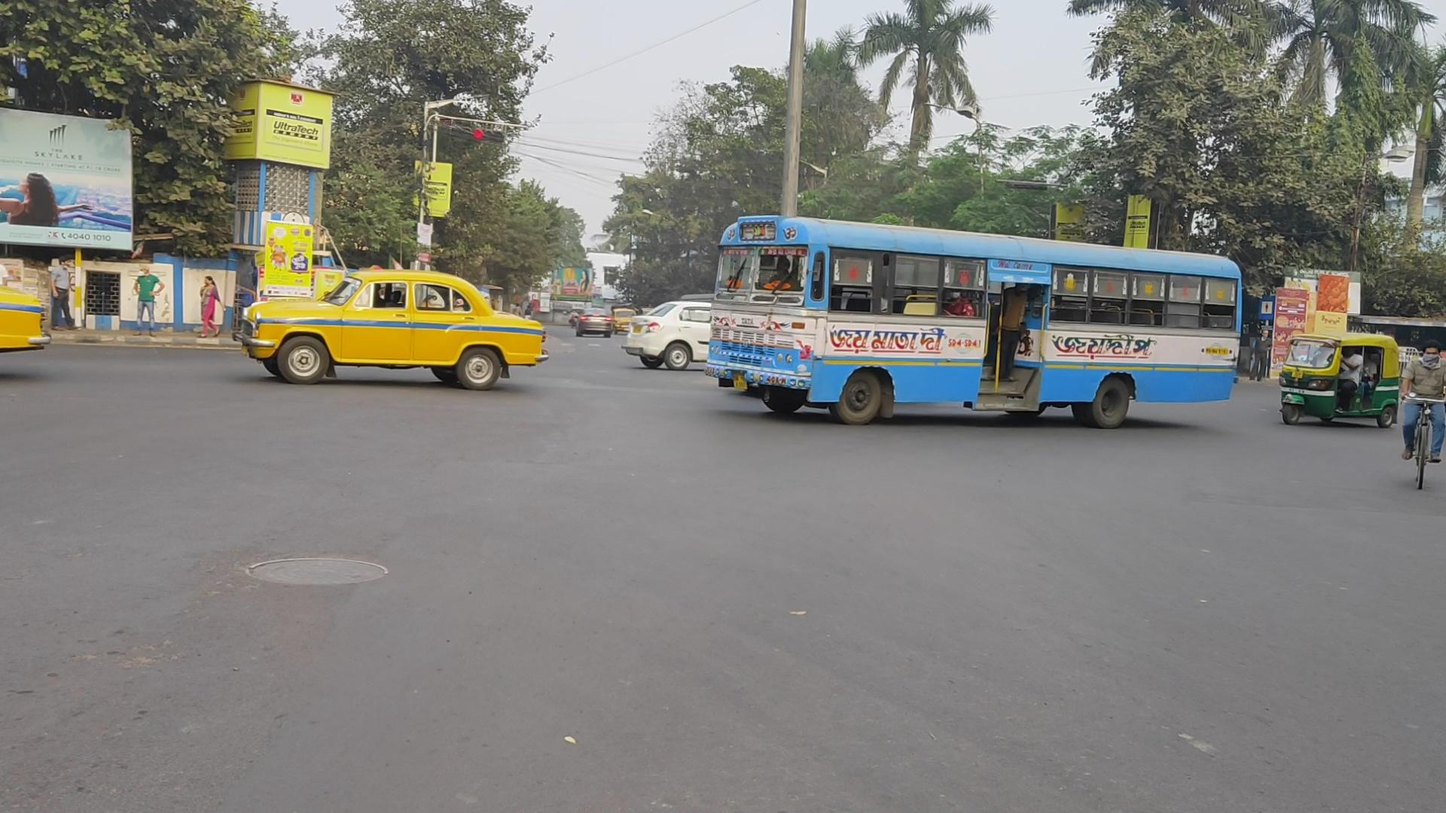Auto: (1279, 332, 1400, 428)
Bus: (705, 215, 1243, 429)
bike: (1400, 340, 1446, 490)
car: (232, 264, 549, 391), (624, 300, 746, 371), (575, 307, 615, 338), (613, 308, 638, 336)
